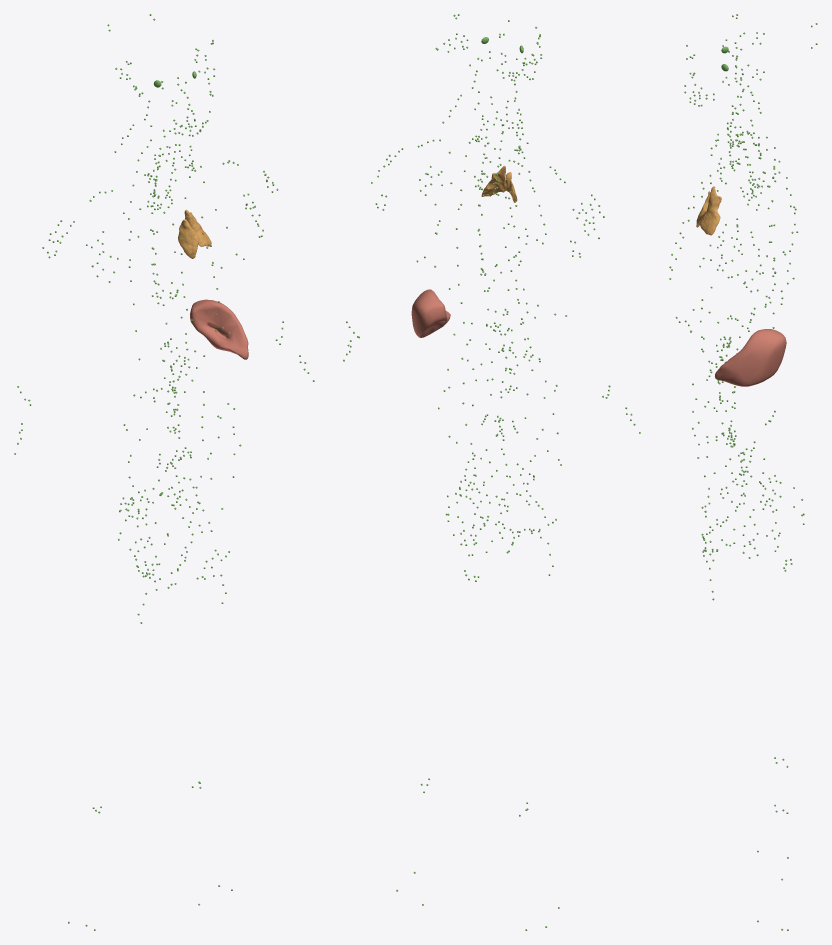
Rendered from lymphoid.glb.
3 views of the same model, side by side, from view 1: azimuth 30°, elevation 25°; view 2: azimuth 150°, elevation 25°; view 3: azimuth 270°, elevation 25° (orthographic).
Visible parts, largest first — view 1: Spleen.001; view 2: Spleen.001; view 3: Spleen.001, Left lobe of thymus.001.
Boxes of the visible parts, bbox=[...] form: Spleen.001: bbox=[190, 299, 248, 359]; Spleen.001: bbox=[411, 289, 450, 337]; Spleen.001: bbox=[715, 329, 786, 386]; Left lobe of thymus.001: bbox=[699, 186, 721, 235].
Bounding box in the file's own units: 0.4523 × 1.28 × 0.1963.
